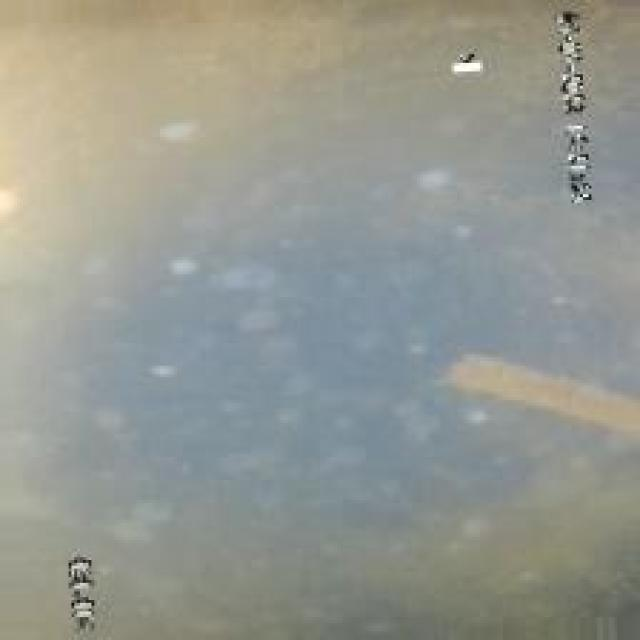ferrule: (446, 340, 634, 440)
